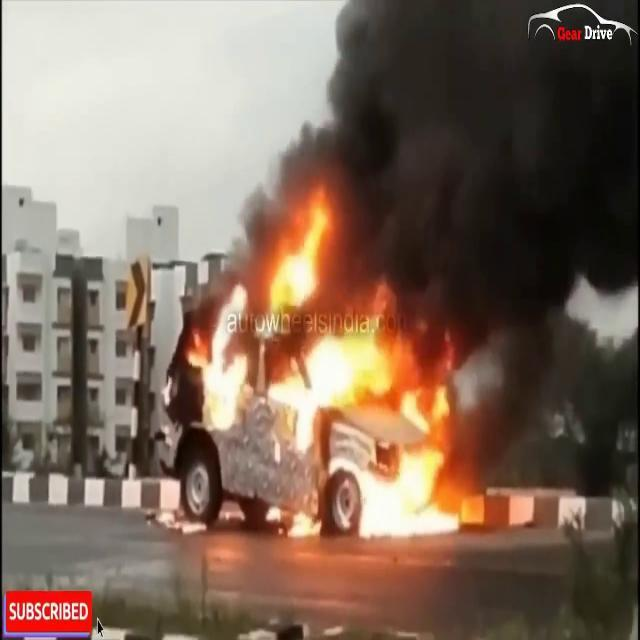Fire: (190, 190, 478, 542)
Smoke: (257, 1, 638, 370)
